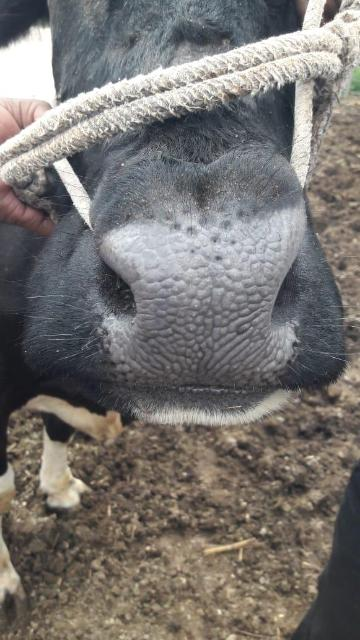Muzzle: (123, 241, 292, 385)
